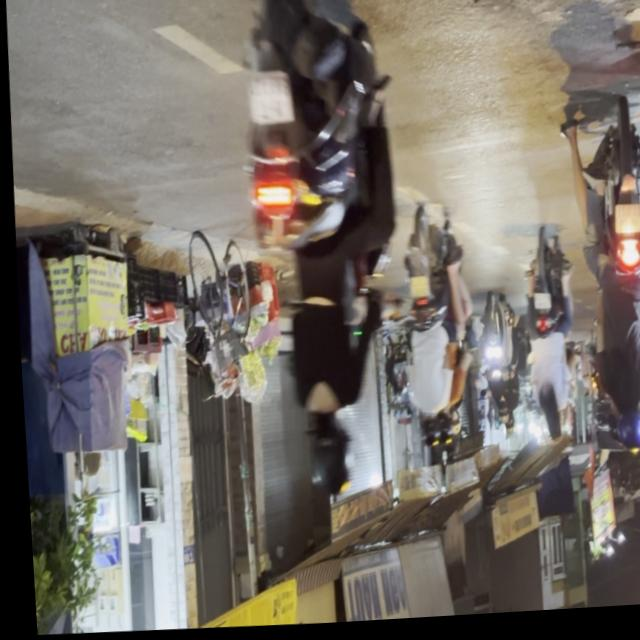helmet: (294, 415, 345, 502), (607, 411, 636, 459), (619, 412, 640, 459), (411, 418, 436, 457), (429, 415, 452, 454)
licenseplate: (222, 0, 414, 510), (551, 106, 640, 471), (389, 207, 472, 463), (512, 234, 578, 454)
motorcyclist: (536, 407, 557, 449)
nohelmet: (244, 76, 291, 130), (609, 213, 640, 243), (405, 281, 425, 304), (530, 299, 546, 316)
